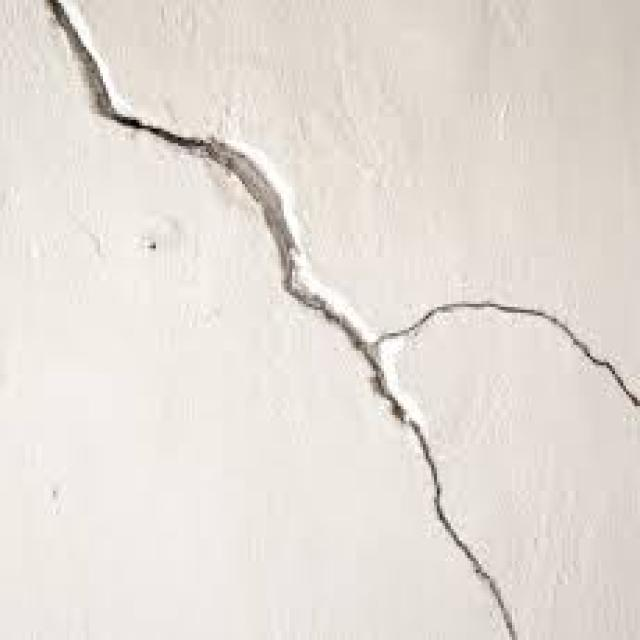Crack: (45, 0, 370, 351), (362, 339, 515, 637), (365, 292, 637, 406)
